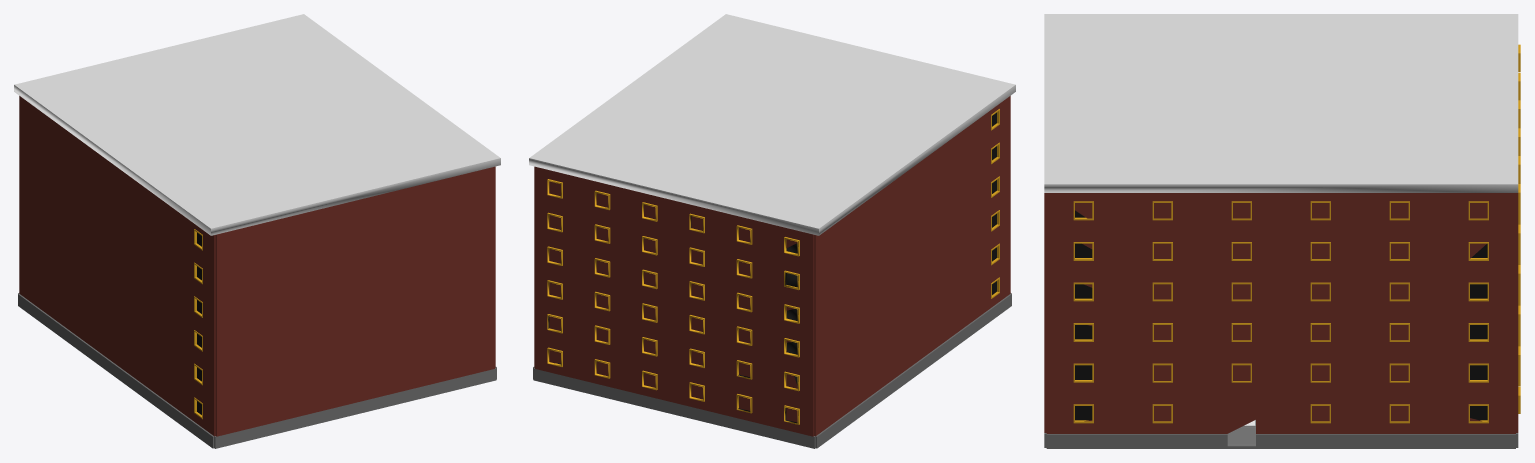
The model's file is BCR30_F06_01.fbx.
3 renders of one model, left to right at view 1: azimuth 30°, elevation 25°; view 2: azimuth 150°, elevation 25°; view 3: azimuth 270°, elevation 25°, orthographic. The views are drawn at different scales.
Visible parts, largest first — view 1: BCR30_F06_01; view 2: BCR30_F06_01; view 3: BCR30_F06_01.
Boxes of the visible parts, x1,y1,x2,y2 form: BCR30_F06_01: [14, 14, 500, 448]; BCR30_F06_01: [529, 14, 1015, 448]; BCR30_F06_01: [1044, 14, 1520, 448].
Bounding box in the file's own units: 2550 × 1860 × 3015.
